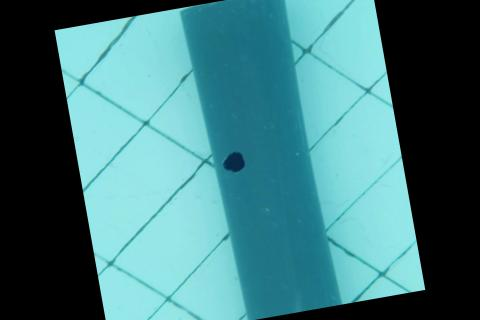kebocoran: (219, 148, 248, 174)
